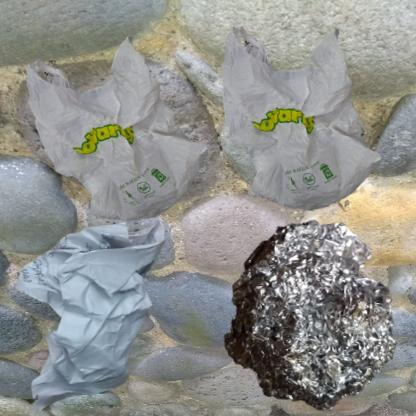aluminio: (213, 213, 403, 416)
bolsa: (10, 10, 251, 278), (213, 10, 392, 226)
papel: (10, 213, 179, 416)
